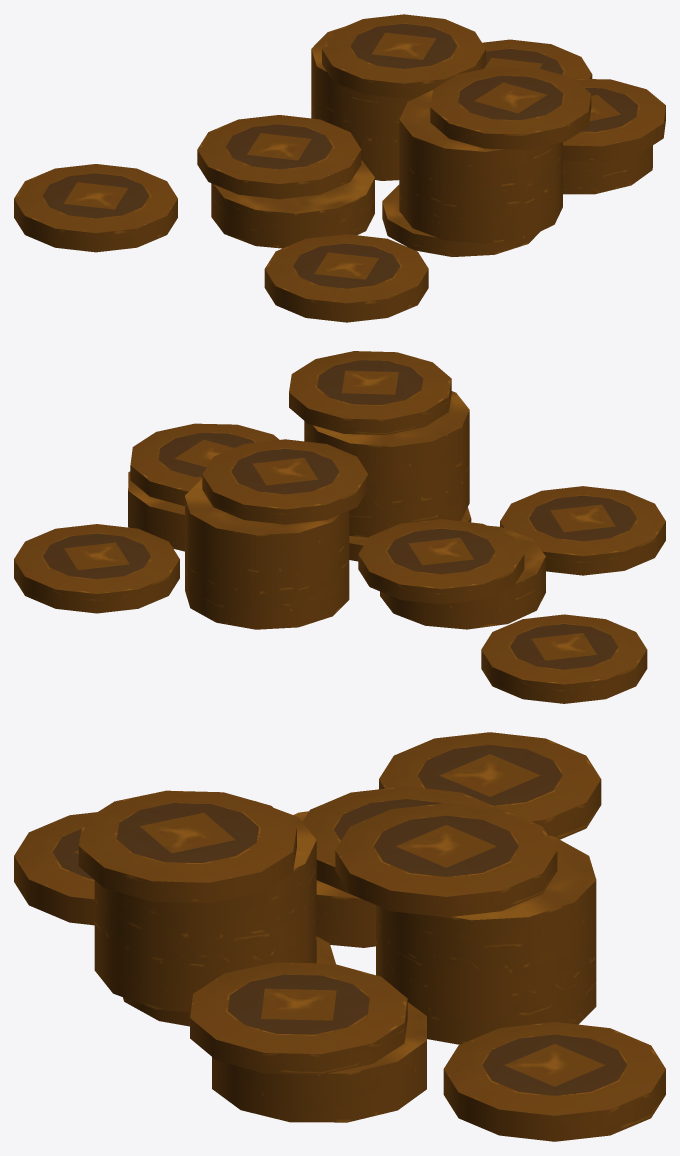
Rendered from Coin_Pile_2.glb.
3 renders of one model, top to bottom at view 1: azimuth 30°, elevation 25°; view 2: azimuth 150°, elevation 25°; view 3: azimuth 270°, elevation 25°, orthographic. The views are drawn at different scales.
Parts seen in each view (by area): view 1: Coin_Pile_2; view 2: Coin_Pile_2; view 3: Coin_Pile_2.
Boxes of the visible parts, x1,y1,x2,y2 form: Coin_Pile_2: [14, 14, 665, 322]; Coin_Pile_2: [14, 351, 665, 703]; Coin_Pile_2: [14, 732, 665, 1141].
Bounding box in the file's own units: 0.2787 × 0.0585 × 0.2002.
Materials: 1 (1 with a texture image).
